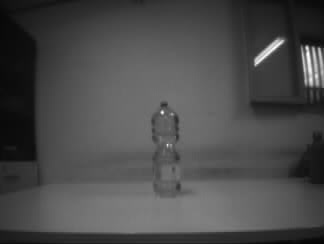Bottle: (150, 101, 182, 199)
